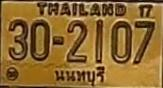0: (111, 20, 132, 63), (30, 20, 49, 60)
1: (94, 20, 102, 63)
2: (66, 20, 87, 62)
3: (8, 19, 28, 60)
7: (132, 20, 154, 64)
NBI: (51, 63, 108, 88)
